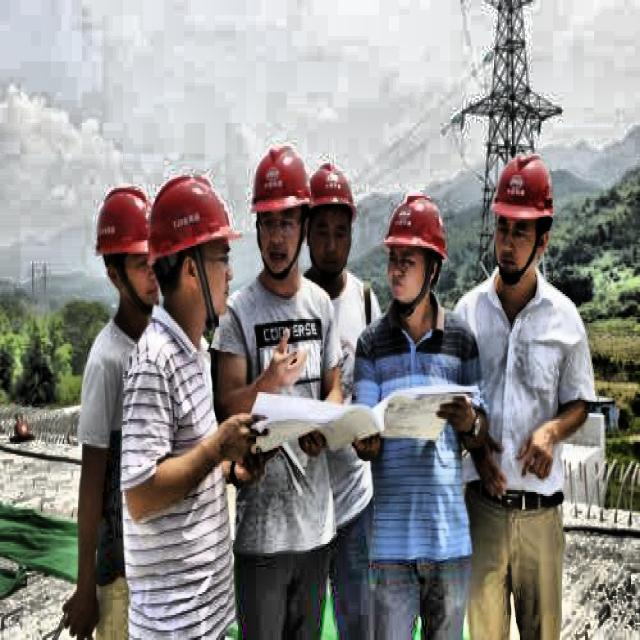helmet: (145, 169, 225, 321), (491, 138, 562, 284), (91, 179, 161, 315), (379, 186, 449, 319), (251, 146, 311, 279), (301, 154, 361, 273)
